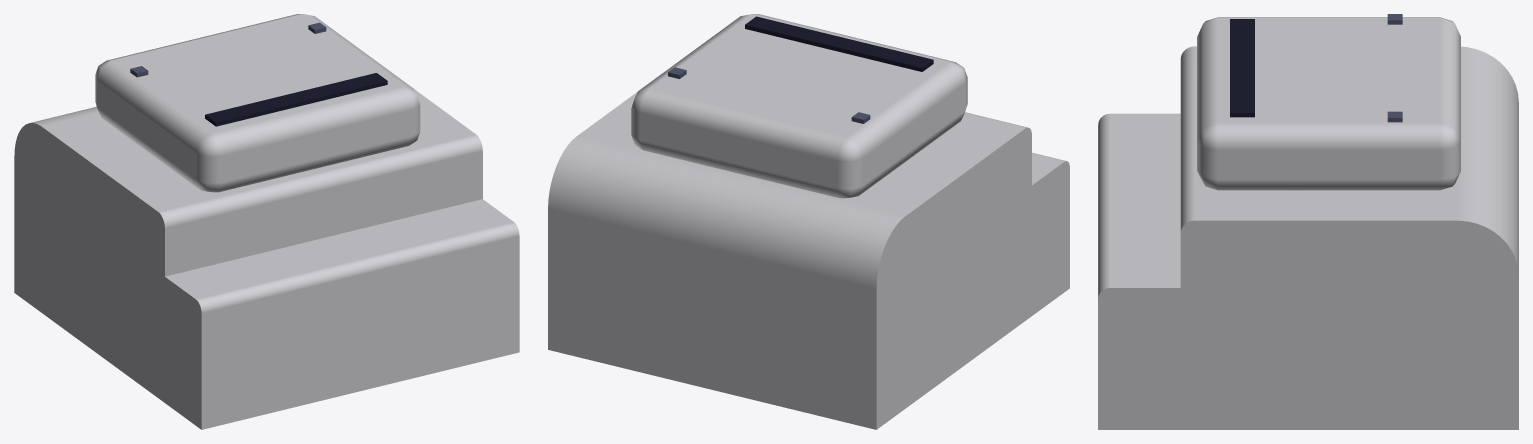
Rendered from roof.shoulder.straight.bump.s2.glb.
3 renders of one model, left to right at view 1: azimuth 30°, elevation 25°; view 2: azimuth 150°, elevation 25°; view 3: azimuth 270°, elevation 25°, orthographic. The views are drawn at different scales.
Visible parts, largest first — view 1: roof.shoulder.straight.bump.s2; view 2: roof.shoulder.straight.bump.s2; view 3: roof.shoulder.straight.bump.s2.
Part boxes in pixels (x1,y1,x2,y2): roof.shoulder.straight.bump.s2: [14, 14, 519, 429]; roof.shoulder.straight.bump.s2: [548, 14, 1069, 429]; roof.shoulder.straight.bump.s2: [1098, 14, 1518, 429].
Size of the model in its own units: 1 by 0.7407 by 1.02.
